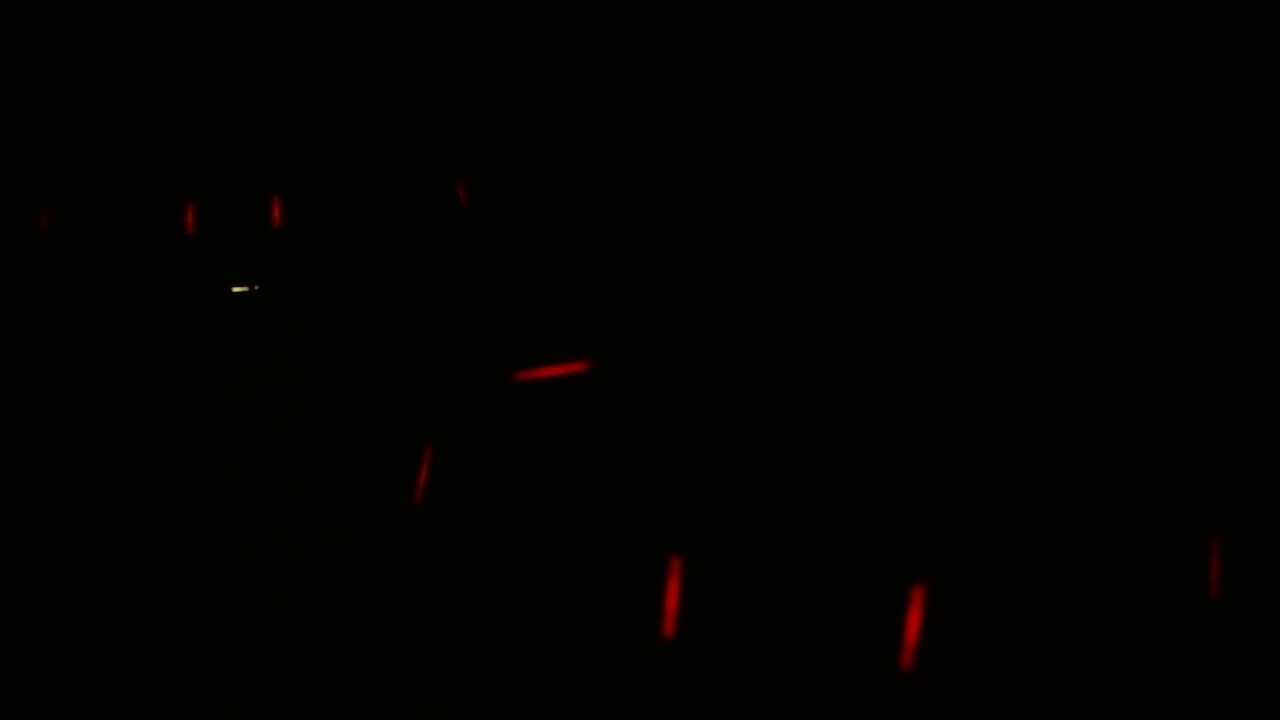pair1: (664, 542, 923, 664), (176, 187, 287, 243)
